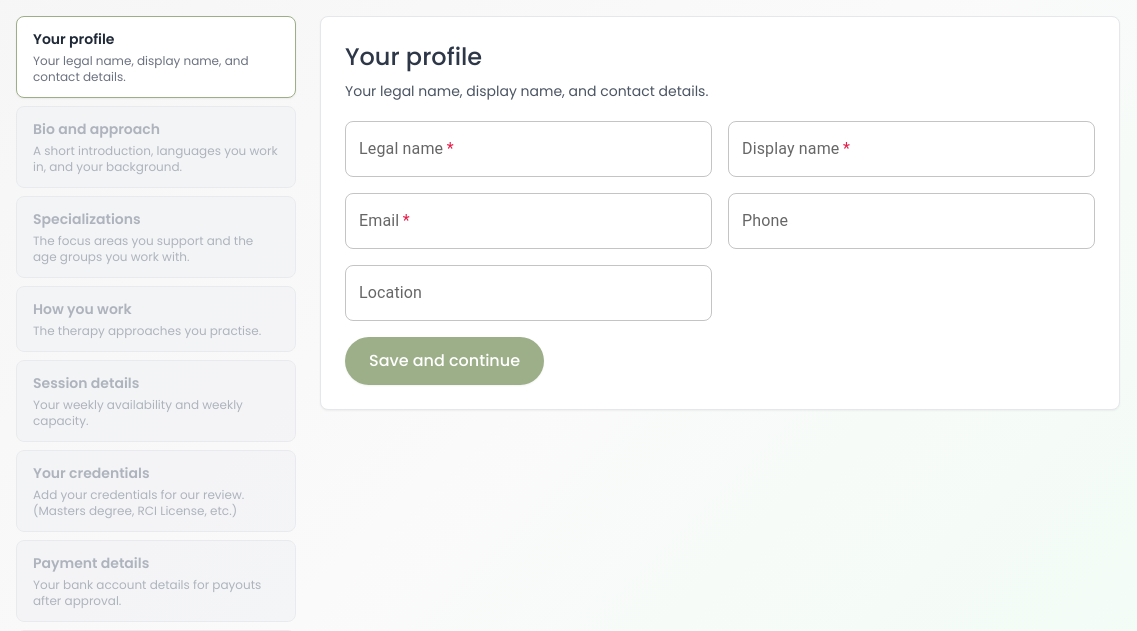
Scenario: provider onboarding route › purges legacy browser draft data after a successful section save
The width and height of the screenshot is (1137, 631).
Type "Dr. Clear Draft" into the field labelled "Legal name *" at (528, 149), box top-left (345, 121), bottom-right (712, 177)
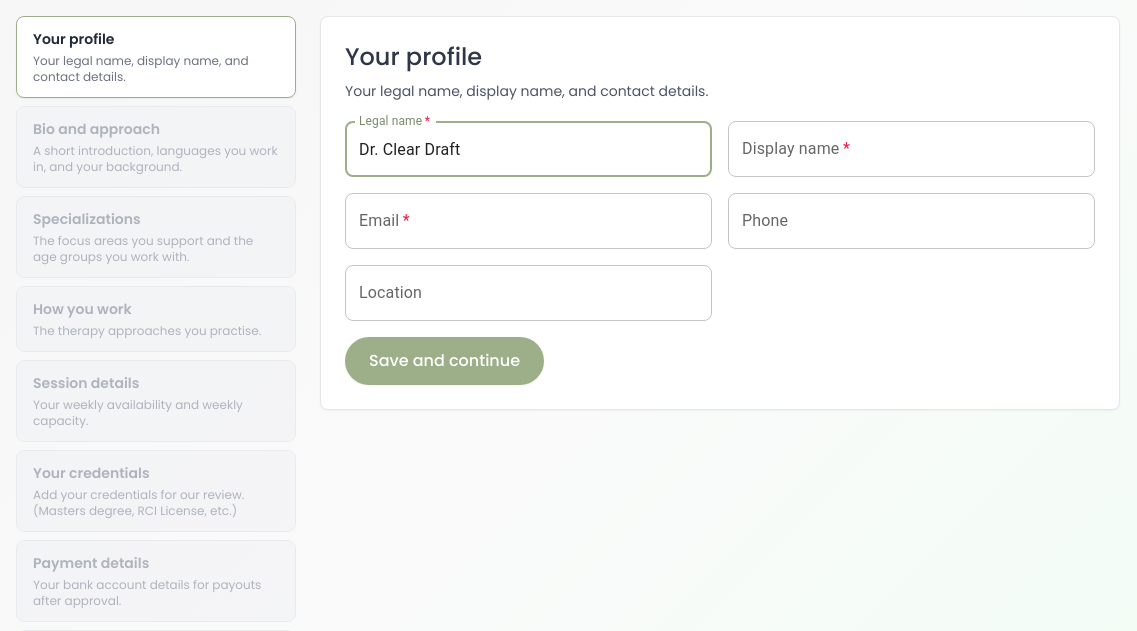
Type "Clear Draft" into the field labelled "Display name *" at (912, 149), box top-left (728, 121), bottom-right (1095, 177)
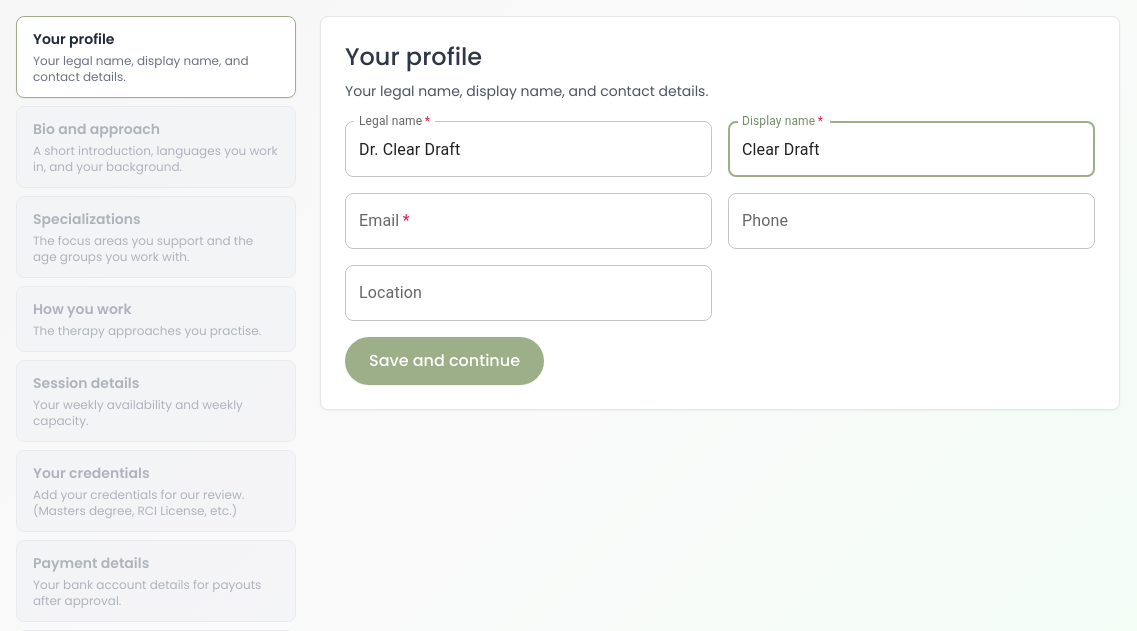
Type "clear@example.com" into the field labelled "Email *" at (528, 221), box top-left (345, 193), bottom-right (712, 249)
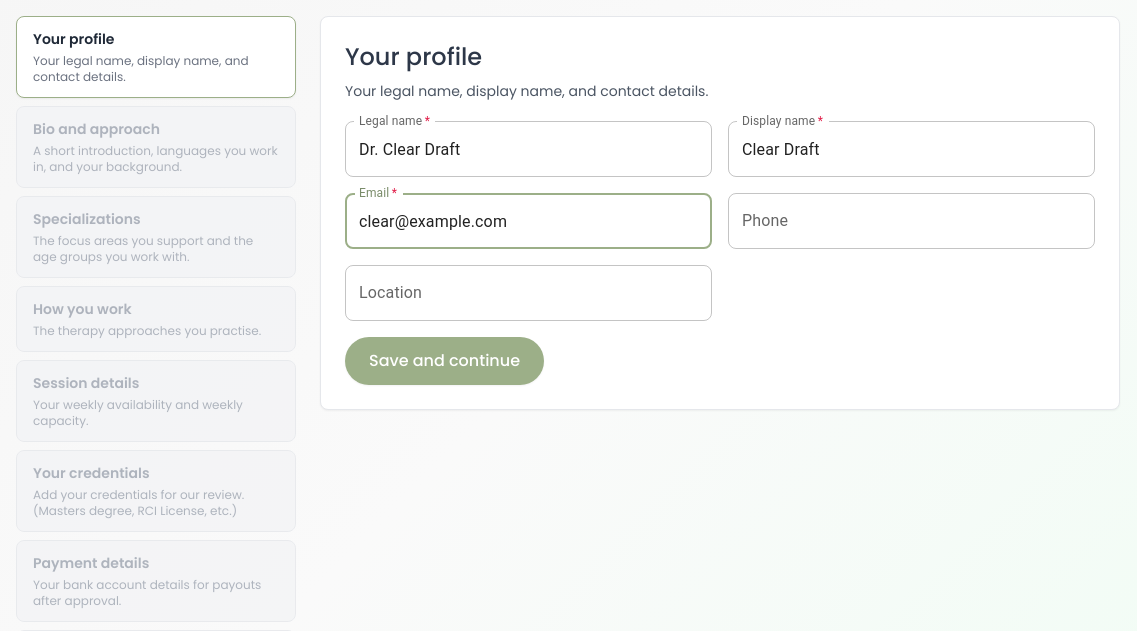
Click the button "Save and continue" at (444, 361), box top-left (345, 337), bottom-right (544, 385)
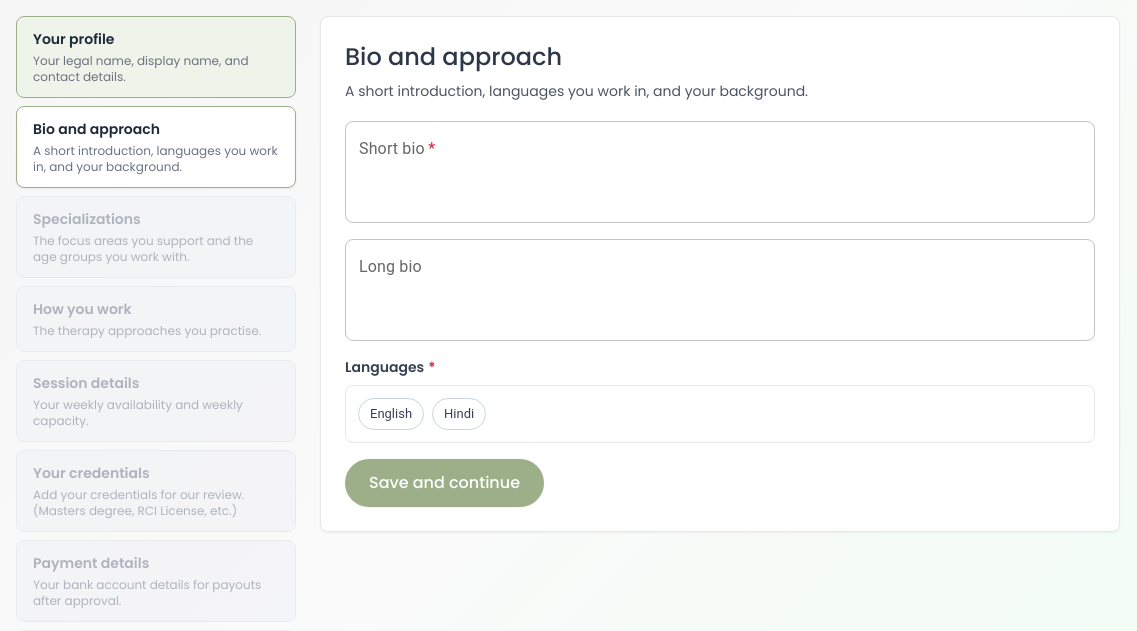
Expected: the heading "Bio and approach" is shown, top-left (345, 40), bottom-right (562, 73)
